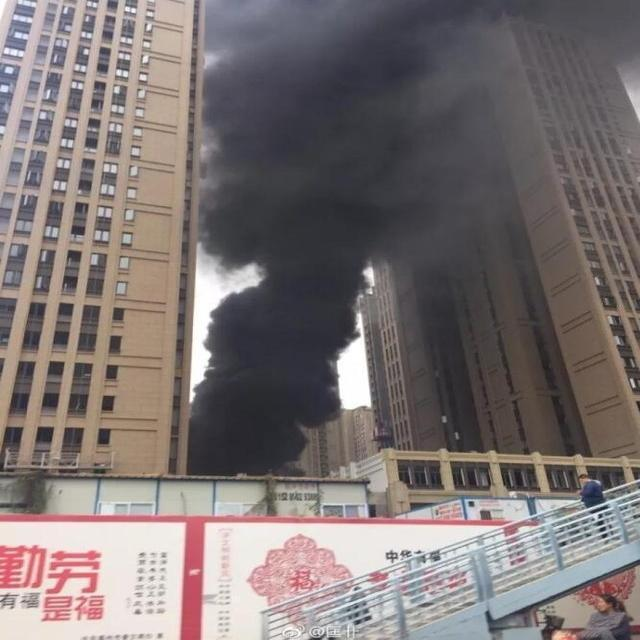Smoke: (183, 1, 640, 478)
